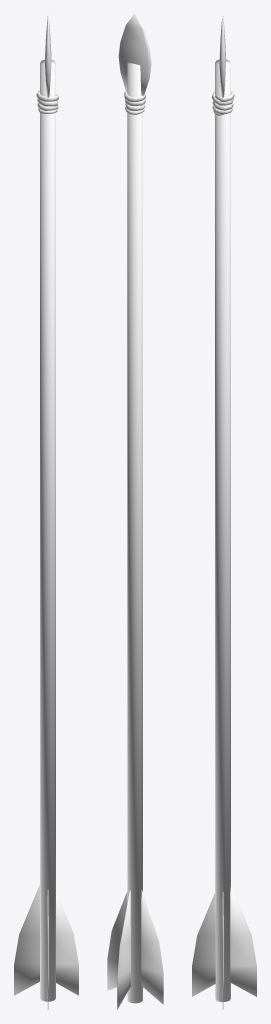
File: arrow2HULL.obj
3 renders of one model, left to right at view 1: azimuth 90°, elevation 25°; view 2: azimuth 150°, elevation 25°; view 3: azimuth 270°, elevation 25°, orthographic.
Parts seen in each view (by area): view 1: Cylinder; view 2: Cylinder; view 3: Cylinder.
Part boxes in pixels (bbox=[...]): Cylinder: bbox=[14, 14, 78, 1009]; Cylinder: bbox=[107, 14, 163, 1009]; Cylinder: bbox=[192, 14, 256, 1009].
Bounding box in the file's own units: 0.0355 × 0.5953 × 0.0355.
